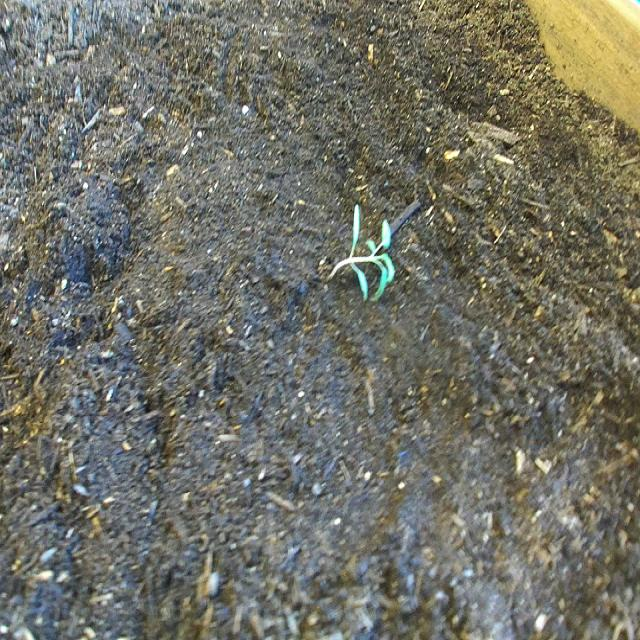Healthy: (325, 198, 399, 305)
